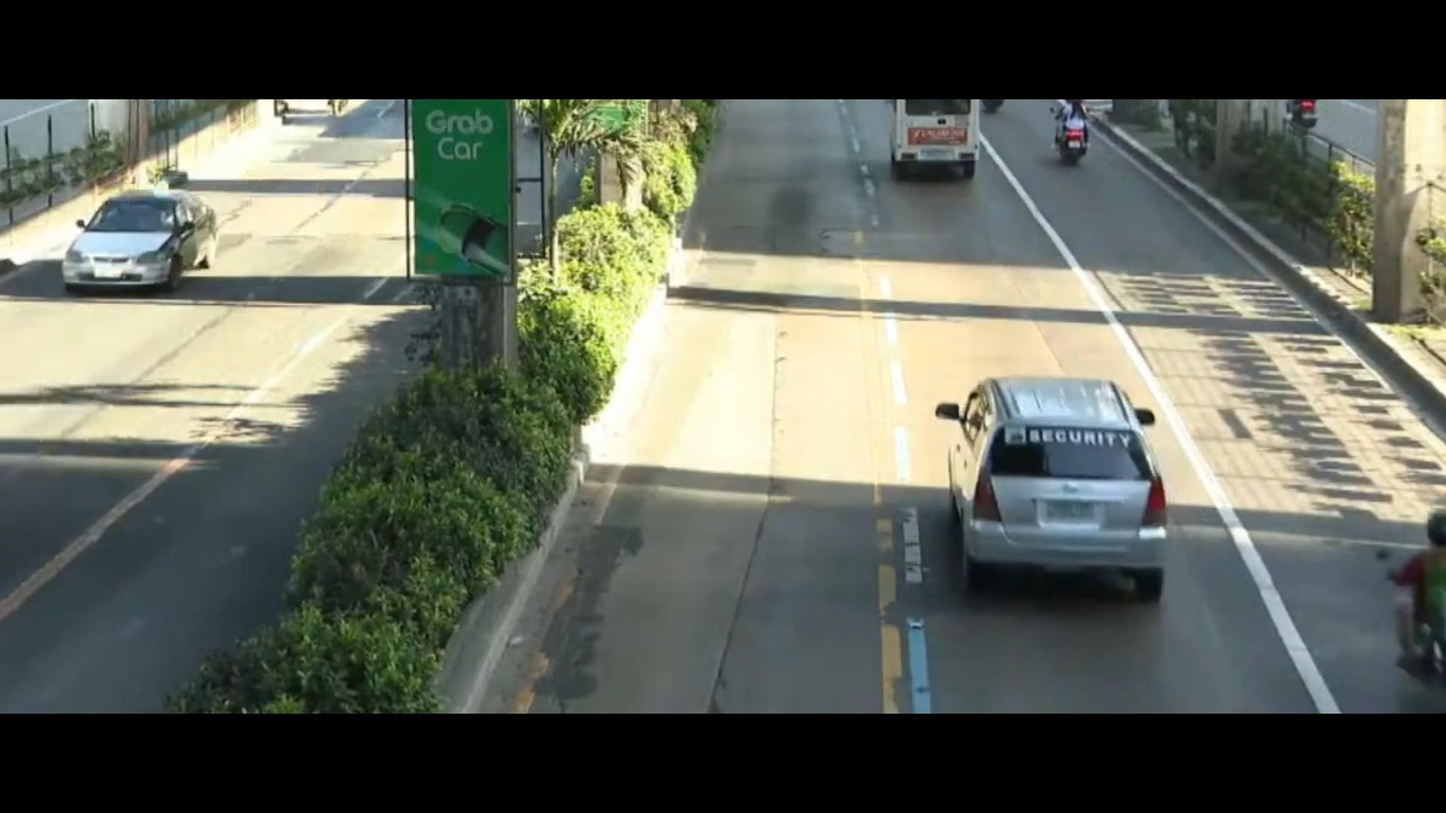Motorcycle: (1371, 482, 1446, 723), (1051, 99, 1117, 189)
Multicab: (865, 99, 994, 206)
SUV: (876, 347, 1196, 633)
Sedan: (62, 172, 243, 297)
